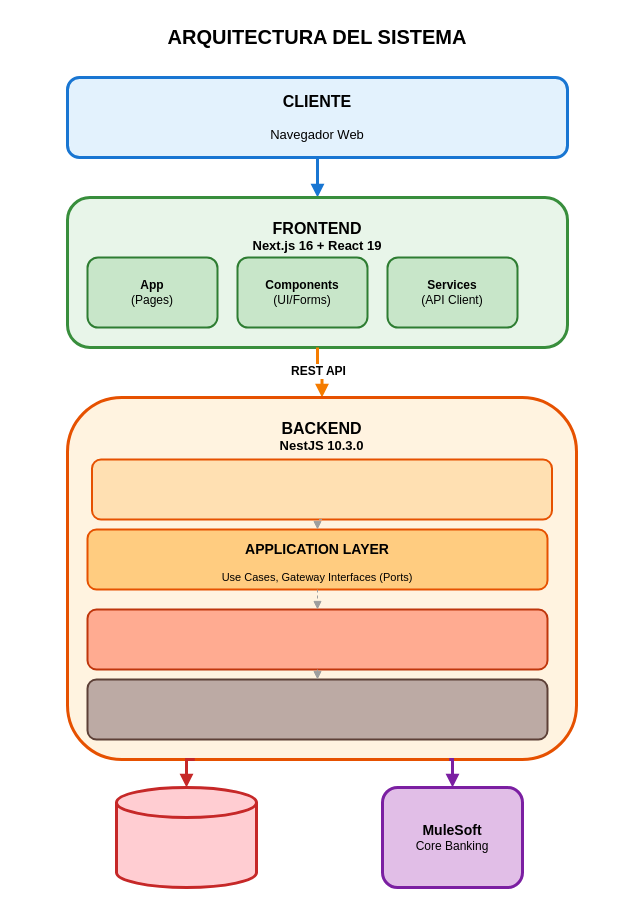
Image size: 634x906. Some labels were removed from this diagram. Each missing label, with the centre of its shape:
"DOMAIN LAYER Entities, Domain Services, Business Rules" goes at (x=317, y=639).
"INFRASTRUCTURE LAYER MongoDB Gateway (Adapter), Mappers, Mongoose Schemas" goes at (x=317, y=709).
"MongoDB Persistencia" goes at (x=186, y=837).
"PRESENTATION LAYER Controllers, DTOs, Swagger/OpenAPI" goes at (x=321, y=489).
